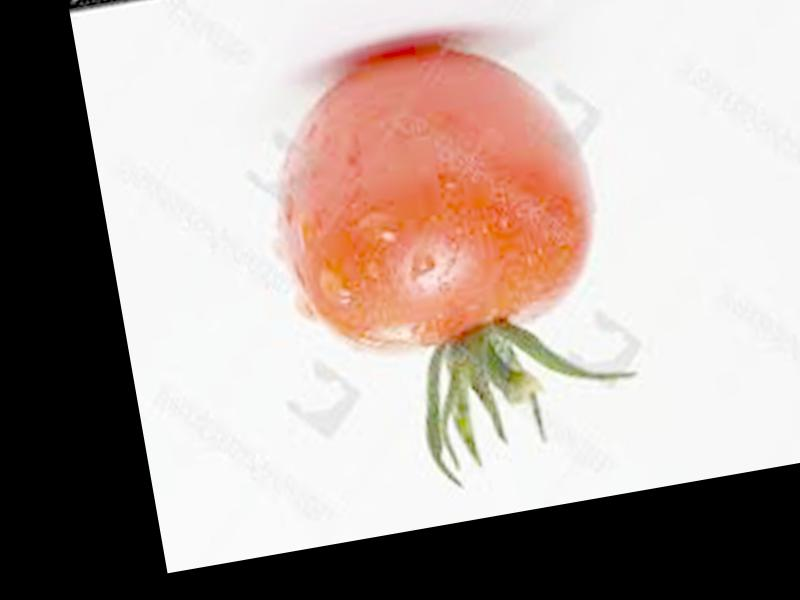Tomato: (254, 24, 613, 364)
